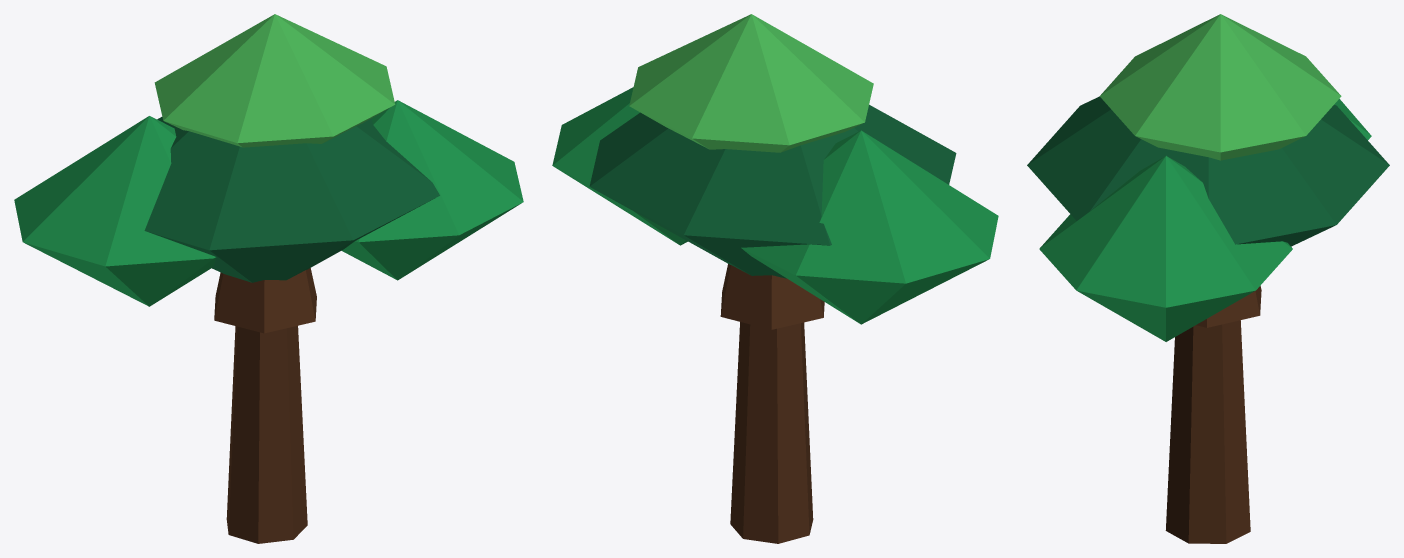
File: jungle_tree.obj
3 views of the same model, side by side, from view 1: azimuth 30°, elevation 25°; view 2: azimuth 150°, elevation 25°; view 3: azimuth 270°, elevation 25° (orthographic). The views are drawn at different scales.
Visible parts, largest first — view 1: jungle_tree; view 2: jungle_tree; view 3: jungle_tree.
Boxes of the visible parts, bbox=[...] form: jungle_tree: bbox=[14, 14, 523, 543]; jungle_tree: bbox=[552, 14, 998, 543]; jungle_tree: bbox=[1027, 14, 1389, 543].
Bounding box in the file's own units: 9 × 9.5 × 6.
